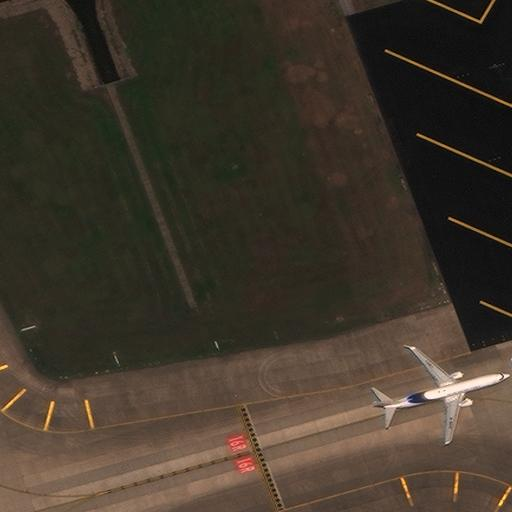Medium Civil Transport: (381, 345, 510, 442)
